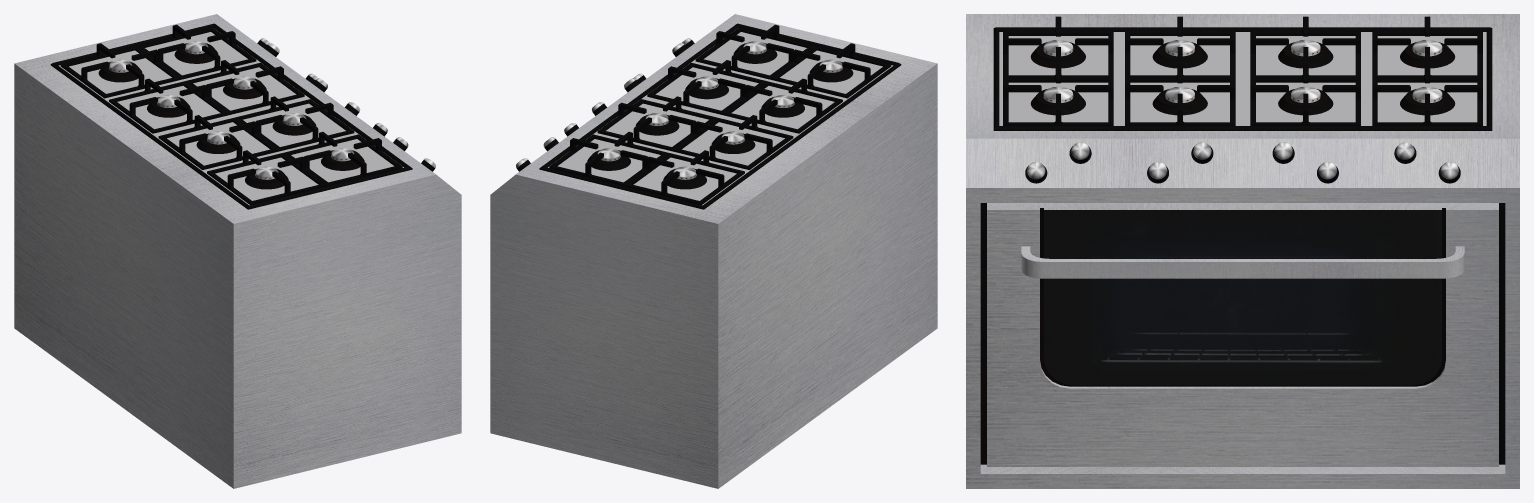
The model's file is stove We are cooked.fbx.
3 views of the same model, side by side, from view 1: azimuth 30°, elevation 25°; view 2: azimuth 150°, elevation 25°; view 3: azimuth 270°, elevation 25° (orthographic). The views are drawn at different scales.
Parts seen in each view (by area): view 1: basis gasvoornhuis, houder, houder.006, houder.002, houder.004, houder.001, houder.007, houder.003, houder.005, gas.001, gas.004, gas.002 (+5 smaller); view 2: basis gasvoornhuis, houder.006, houder, houder.004, houder.002, houder.007, houder.005, houder.001, houder.003, gas.002, gas.007, gas.001 (+5 smaller); view 3: basis gasvoornhuis, handvat, houder.007, houder.001, houder.005, houder.003, houder.002, houder.004, houder.006, houder, gas.002, gas.004 (+6 smaller).
Boxes of the visible parts, x1,y1,x2,y2 form: basis gasvoornhuis: [14, 14, 461, 488]; houder: [207, 150, 326, 204]; houder.006: [60, 43, 180, 98]; houder.002: [158, 115, 278, 169]; houder.004: [109, 78, 228, 133]; houder.001: [283, 132, 402, 186]; houder.007: [137, 24, 256, 79]; houder.003: [235, 96, 354, 151]; houder.005: [185, 60, 304, 114]; gas.001: [245, 166, 288, 189]; gas.004: [223, 76, 266, 99]; gas.002: [272, 113, 316, 135]; basis gasvoornhuis: [490, 14, 937, 488]; houder.006: [625, 150, 744, 204]; houder: [771, 43, 891, 98]; houder.004: [673, 115, 793, 169]; houder.002: [723, 78, 842, 133]; houder.007: [549, 132, 668, 186]; houder.005: [597, 96, 716, 151]; houder.001: [695, 24, 814, 79]; houder.003: [647, 60, 766, 114]; gas.002: [685, 76, 728, 99]; gas.007: [663, 166, 706, 189]; gas.001: [809, 59, 853, 82]; basis gasvoornhuis: [966, 14, 1519, 488]; handvat: [1021, 246, 1464, 278]; houder.007: [1372, 63, 1482, 125]; houder.001: [1003, 63, 1113, 125]; houder.005: [1250, 63, 1360, 125]; houder.003: [1125, 63, 1235, 125]; houder.002: [1125, 16, 1235, 77]; houder.004: [1250, 16, 1360, 77]; houder.006: [1372, 16, 1482, 77]; houder: [1003, 16, 1113, 77]; gas.002: [1152, 86, 1207, 115]; gas.004: [1278, 86, 1333, 115].
Bounding box in the file's own units: 100 × 105 × 150.
